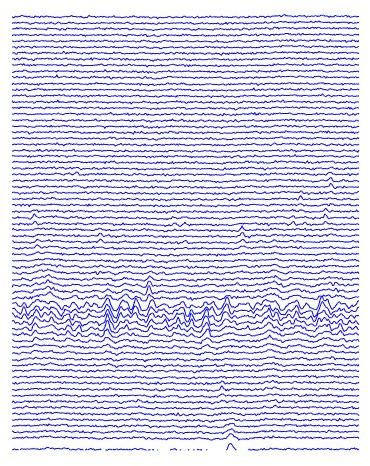defect: (251, 296, 357, 344), (10, 292, 82, 343), (163, 299, 214, 344), (99, 288, 139, 341), (213, 359, 233, 402), (142, 278, 156, 328), (220, 294, 240, 328), (232, 219, 250, 250), (26, 199, 44, 229), (319, 199, 331, 228)
